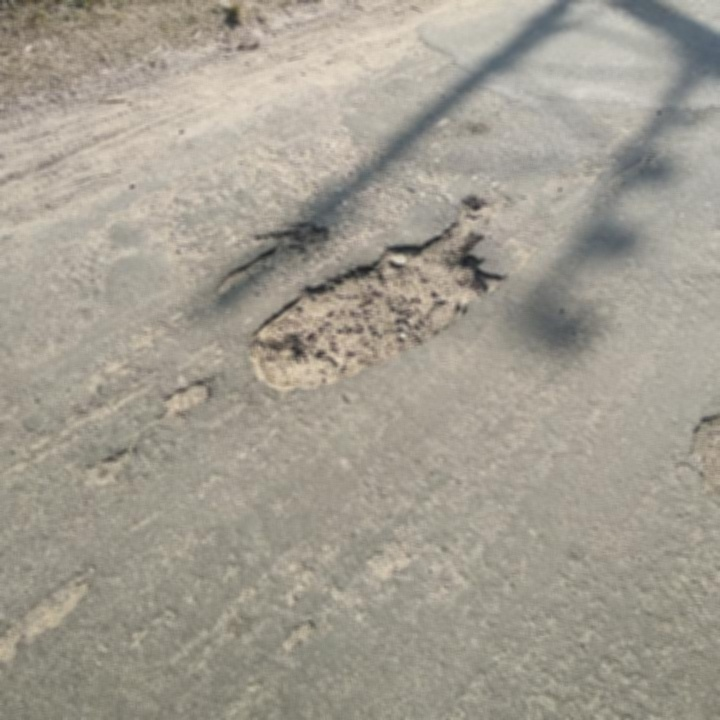pothole: (250, 190, 508, 396), (0, 561, 100, 661), (212, 218, 332, 300), (687, 409, 719, 498), (154, 374, 219, 417)
